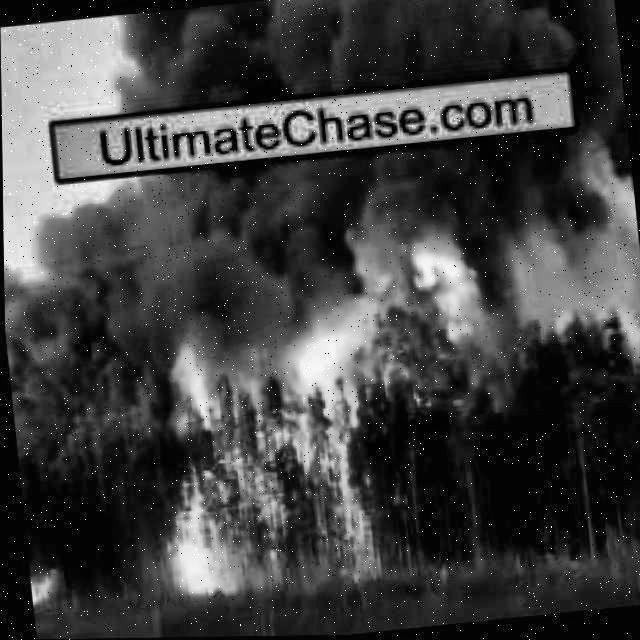Fire: (131, 467, 242, 608), (268, 282, 368, 403), (404, 225, 489, 347), (156, 336, 229, 444), (27, 565, 67, 616)
Smoke: (1, 119, 640, 409), (107, 0, 621, 120)
